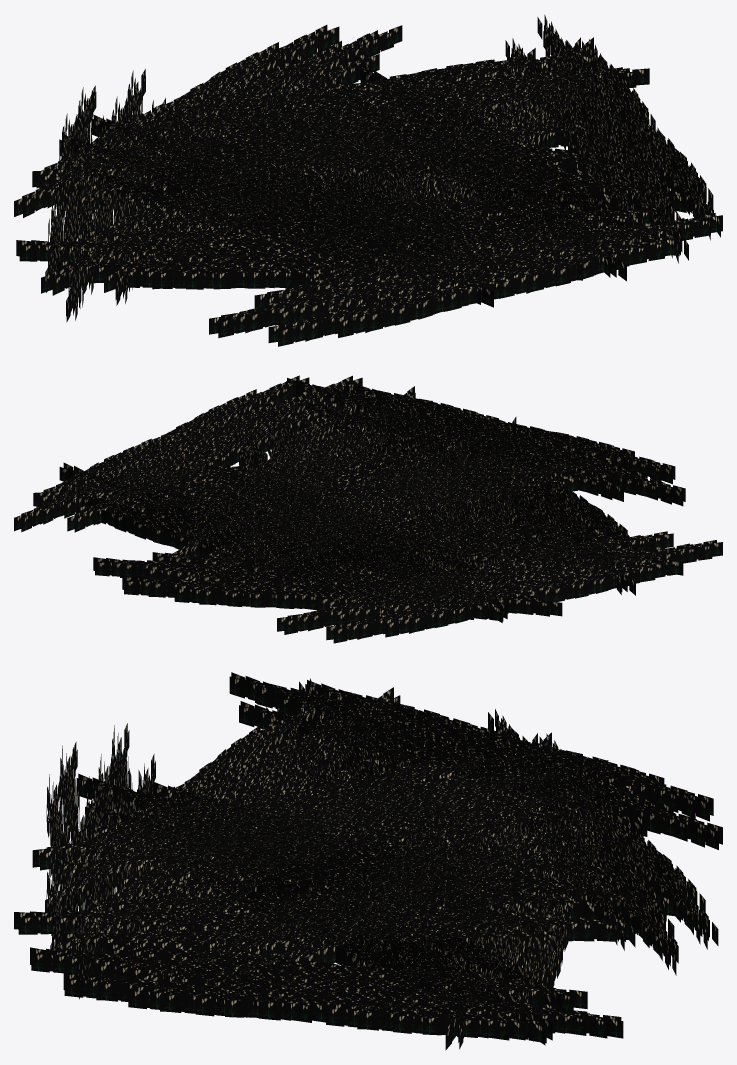
Rendered from すすき山盛り.fbx.
The picture shows the model from 3 angles, top to bottom: view 1: azimuth 30°, elevation 25°; view 2: azimuth 150°, elevation 25°; view 3: azimuth 270°, elevation 25°; orthographic projection. The views are drawn at different scales.
Visible parts, largest first — view 1: 平面.001; view 2: 平面.001; view 3: 平面.001.
Part boxes in pixels (x1=…): 平面.001: x1=14, y1=14, x2=722, y2=346; 平面.001: x1=14, y1=375, x2=722, y2=643; 平面.001: x1=14, y1=672, x2=722, y2=1050.
Size of the model in its own units: 8900 by 206 by 7380.
2 materials, 2 textured.
